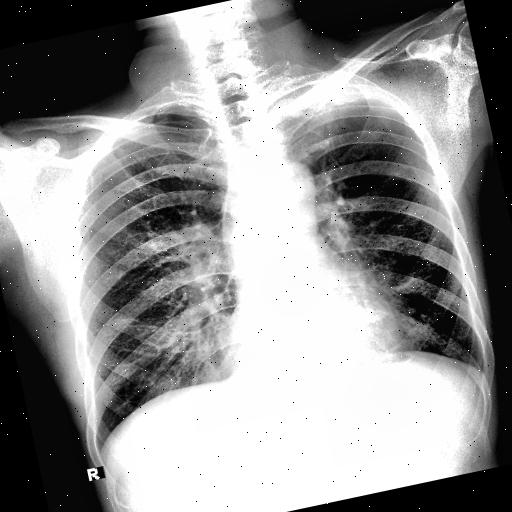0- Aortic enlargement: (254, 158, 322, 218)
11- Pleural thickening: (266, 70, 381, 121), (265, 68, 377, 120), (150, 110, 174, 124)
7- Lung Opacity: (267, 62, 392, 120)
